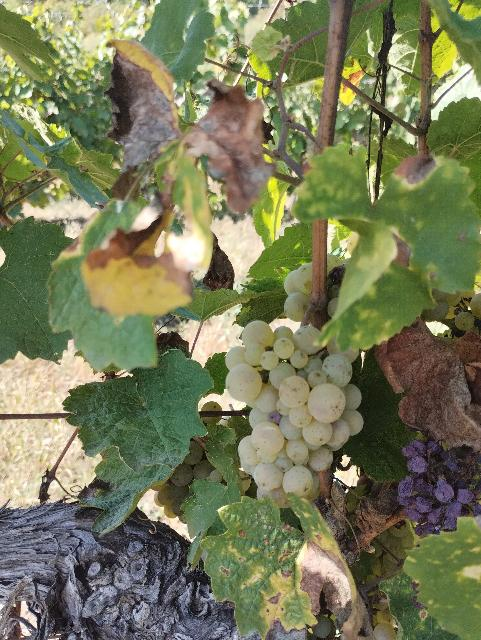grapes: (226, 320, 364, 509)
